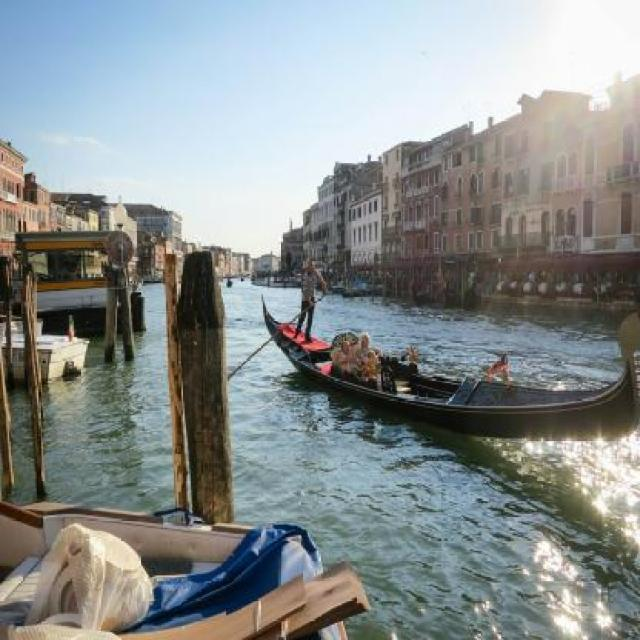ship: (258, 293, 639, 442), (2, 313, 88, 382), (226, 276, 232, 286)
